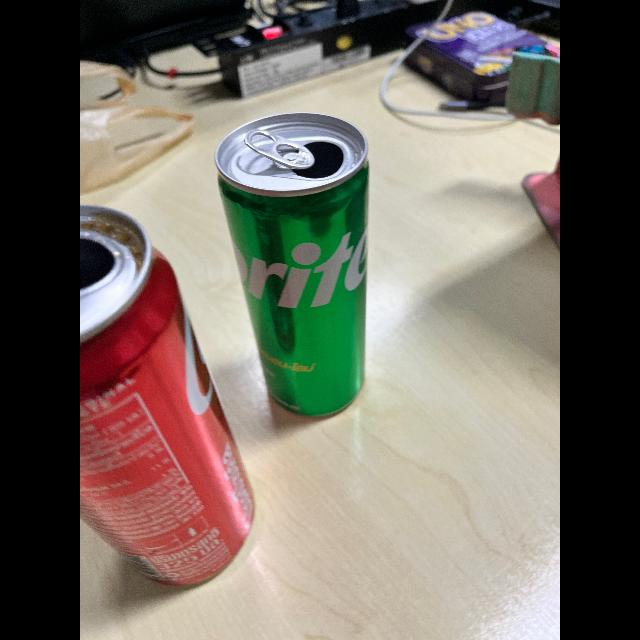can: (80, 210, 268, 588), (208, 104, 396, 420)
